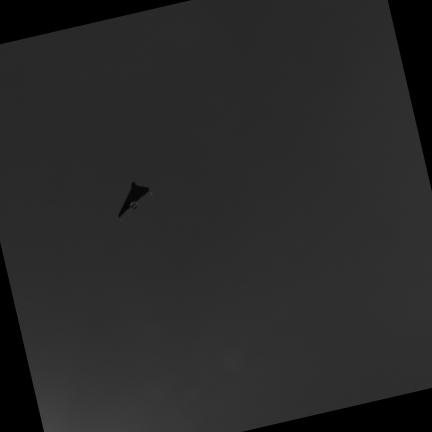Shahed: (118, 181, 155, 223)
